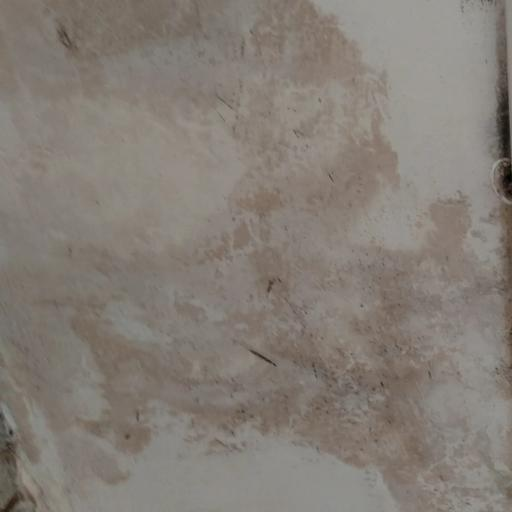stain: (2, 0, 512, 509)
